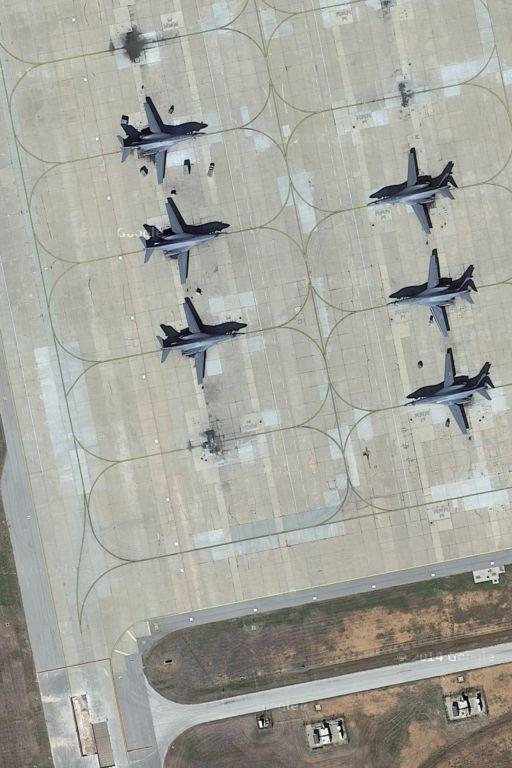B-1B: (362, 143, 460, 236), (113, 95, 210, 187), (151, 298, 249, 387), (404, 343, 496, 437), (136, 198, 230, 287), (388, 246, 480, 335)
